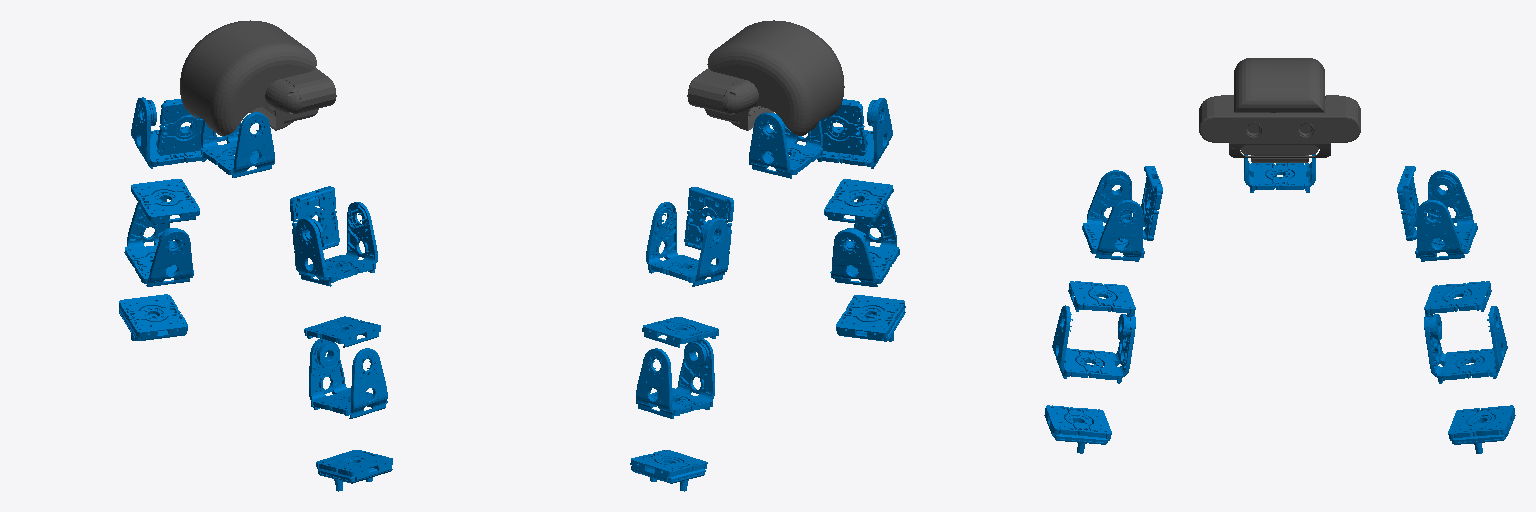
--- Facts derived from the render (not from the file) ---
Views: 3 orthographic renders of the robot side by side, from view 1: azimuth 30°, elevation 25°; view 2: azimuth 150°, elevation 25°; view 3: azimuth 270°, elevation 25°.
Model ego_robot with 40 links and 39 joints (12 revolute, 2 continuous, 25 fixed), rooted at base_link, posed all joints at 0.
Links seen in each view (by area): view 1: head_robot, right_forearm_flange, right_arm_flange, left_forearm_flange, neck_flange, left_elbow_flange, left_wrist_flange, left_shoulder_flange, left_arm_flange, right_shoulder_flange, right_elbow_flange, right_wrist_flange; view 2: head_robot, left_forearm_flange, left_arm_flange, right_forearm_flange, neck_flange, right_wrist_flange, right_elbow_flange, right_shoulder_flange, right_arm_flange, left_shoulder_flange, left_elbow_flange, left_wrist_flange; view 3: head_robot, left_arm_flange, right_arm_flange, right_forearm_flange, left_forearm_flange, neck_flange, left_elbow_flange, right_elbow_flange, left_wrist_flange, right_wrist_flange, left_shoulder_flange, right_shoulder_flange (+1 smaller).
Link boxes in pixels (left/top/right/bottom): head_robot: left=180, top=20, right=336, bottom=135; right_forearm_flange: left=309, top=339, right=387, bottom=418; right_arm_flange: left=295, top=202, right=377, bottom=286; left_forearm_flange: left=124, top=198, right=193, bottom=286; neck_flange: left=201, top=112, right=274, bottom=177; left_elbow_flange: left=131, top=179, right=199, bottom=224; left_wrist_flange: left=119, top=294, right=187, bottom=340; left_shoulder_flange: left=157, top=99, right=202, bottom=155; left_arm_flange: left=131, top=97, right=206, bottom=168; right_shoulder_flange: left=290, top=186, right=339, bottom=252; right_elbow_flange: left=304, top=316, right=380, bottom=347; right_wrist_flange: left=316, top=450, right=392, bottom=480; head_robot: left=687, top=20, right=844, bottom=135; left_forearm_flange: left=636, top=339, right=714, bottom=418; left_arm_flange: left=646, top=202, right=728, bottom=286; right_forearm_flange: left=830, top=199, right=899, bottom=286; neck_flange: left=749, top=112, right=822, bottom=178; right_wrist_flange: left=836, top=295, right=905, bottom=340; right_elbow_flange: left=824, top=179, right=893, bottom=224; right_shoulder_flange: left=820, top=99, right=866, bottom=155; right_arm_flange: left=817, top=98, right=892, bottom=168; left_shoulder_flange: left=684, top=187, right=733, bottom=253; left_elbow_flange: left=642, top=317, right=718, bottom=347; left_wrist_flange: left=630, top=450, right=707, bottom=480; head_robot: left=1199, top=58, right=1360, bottom=162; left_arm_flange: left=1415, top=170, right=1477, bottom=261; right_arm_flange: left=1082, top=170, right=1144, bottom=261; right_forearm_flange: left=1052, top=305, right=1135, bottom=383; left_forearm_flange: left=1424, top=306, right=1507, bottom=383; neck_flange: left=1244, top=154, right=1315, bottom=192; left_elbow_flange: left=1424, top=281, right=1491, bottom=316; right_elbow_flange: left=1068, top=281, right=1135, bottom=316; left_wrist_flange: left=1448, top=405, right=1515, bottom=440; right_wrist_flange: left=1044, top=405, right=1111, bottom=440; left_shoulder_flange: left=1397, top=166, right=1418, bottom=240; right_shoulder_flange: left=1141, top=166, right=1162, bottom=240.
Bounding box of the posed robot: 0.1395 × 0.5663 × 0.5028 m (x, y, z).
Meshes: 13 distinct files referenced, 16 mesh visuals loaded (6 Collada DAE); not drawn: 1 (reference not matched to a file when rendering), 15 (file found but could not be loaded).

URDF robot description (ego_robot):
<?xml version="1.0" ?>
<!-- =================================================================================== -->
<!-- |    This document was autogenerated by xacro from ego_robot_gazebo_v2.urdf.xacro | -->
<!-- |    EDITING THIS FILE BY HAND IS NOT RECOMMENDED                                 | -->
<!-- =================================================================================== -->
<robot name="ego_robot">
  <material name="qbmove/flange">
    <color rgba="0.0 0.5 0.8 1.0"/>
  </material>
  <material name="qbmove/cube">
    <color rgba="0.35 0.35 0.35 1.0"/>
  </material>
  <material name="qbmove/shaft">
    <color rgba="0.8 0.8 0.8 1.0"/>
  </material>
  <material name="qbmove/default">
    <color rgba="0.35 0.35 0.35 1.0"/>
  </material>
  <material name="SoftBlue">
    <color rgba="0.0 0.0 0.8 0.9"/>
  </material>
  <material name="SoftLightBlue">
    <color rgba="0.0 0.4 1.0 1.0"/>
  </material>
  <material name="wheel">
    <color rgba="0.50 0.50 0.50 1.0"/>
  </material>
  <!-- IMU : -->
  <joint name="base_link_to_imu" type="fixed">
    <origin rpy="0 0 0" xyz="0 102.5e-3 24.25e-3"/>
    <parent link="base_link"/>
    <child link="imu"/>
  </joint>
  <link name="imu">
    <visual>
      <material name="qbmove/cube"/>
      <geometry>
        <mesh filename="package://alterego_robot/alterego_description/meshes/common/visual/mc_seg_imu_supp_1_100.dae" scale="0.001 0.001 0.001"/>
      </geometry>
      <origin rpy="0 0 0" xyz="0 0 0"/>
    </visual>
    <inertial>
      <origin rpy="0 0 0" xyz="7.5000002e-3 -2.4329396e-4  5.0246414e-4"/>
      <mass value="2.3770213e-3"/>
      <inertia ixx="0" ixy="0" ixz="0" iyy="0" iyz="0" izz="0"/>
    </inertial>
    <collision>
      <origin rpy="0 0 0" xyz="0 0 0"/>
      <geometry>
        <mesh filename="package://alterego_robot/alterego_description/meshes/common/collision/mc_seg_imu_supp_1_100.stl" scale="0.001 0.001 0.001"/>
      </geometry>
    </collision>
  </link>
  <!-- LASER : -->
  <joint name="base_link_to_laser" type="fixed">
    <origin rpy="0 0 -1.5707963" xyz="0 0 116e-3 "/>
    <parent link="base_link"/>
    <child link="laser"/>
  </joint>
  <link name="laser">
    <visual>
      <material name="qbmove/cube"/>
      <geometry>
        <mesh filename="package://alterego_robot/alterego_description/meshes/common/visual/rplidar_a2_slamtec.dae" scale="0.001 0.001 0.001"/>
      </geometry>
      <origin rpy="0 0 0" xyz="0 0 0"/>
    </visual>
    <inertial>
      <origin rpy="0 0 0" xyz=" -4.3709710e-4 0   1.8991442e-2"/>
      <mass value="2.0002622e-1"/>
      <inertia ixx=" 9.1569570e-5" ixy="0" ixz="0" iyy="9.0192290e-5" iyz="0" izz="1.2956170e-4"/>
    </inertial>
    <collision>
      <origin rpy="0 0 0" xyz="0 0 0"/>
      <geometry>
        <mesh filename="package://alterego_robot/alterego_description/meshes/common/collision/rplidar_a2_slamtec.stl" scale="0.001 0.001 0.001"/>
      </geometry>
    </collision>
  </link>
  <gazebo reference="laser">
    <material>Gazebo/Black</material>
  </gazebo>
  <!-- ZED : -->
  <joint name="head_robot_to_camera" type="fixed">
    <origin rpy="-1.5707963 0 2.3561944" xyz="-87.9065e-3 21.6811e-3 -6.5e-3"/>
    <parent link="head_robot"/>
    <child link="camera"/>
  </joint>
  <link name="camera">
    <visual>
      <material name="qbmove/cube"/>
      <geometry>
        <mesh filename="package://alterego_robot/alterego_description/meshes/common/visual/zedm.dae" scale="0.001 0.001 0.001"/>
      </geometry>
      <origin rpy="0 0 0" xyz="0 0 0"/>
    </visual>
    <inertial>
      <origin rpy="0 0 0" xyz=" -1.7967264e-2  8.9226986e-4  7.6630930e-6"/>
      <mass value="5.8888131e-2"/>
      <inertia ixx=" 0" ixy="0" ixz="0" iyy="0" iyz="0" izz="0"/>
    </inertial>
    <collision>
      <origin rpy="0 0 0" xyz="0 0 0"/>
      <geometry>
        <mesh filename="package://alterego_robot/alterego_description/meshes/common/collision/zedm.stl" scale="0.001 0.001 0.001"/>
      </geometry>
    </collision>
  </link>
  <!-- FRAME FOR PLUGIN  -->
  <!-- LEFT  -->
  <joint name="camera_to_left" type="fixed">
    <origin rpy="0 0 0" xyz="0 0.025 0"/>
    <parent link="camera"/>
    <child link="camera_left"/>
  </joint>
  <link name="camera_left"/>
  <!-- FRAME FOR PLUGIN  -->
  <!-- RIGHT  -->
  <joint name="camera_to_right" type="fixed">
    <origin rpy="0 0 0" xyz="0 -0.036 0"/>
    <parent link="camera"/>
    <child link="camera_right"/>
  </joint>
  <link name="camera_right"/>
  <!-- IMU : -->
  <joint name="head_robot_to_realsense" type="fixed">
    <origin rpy="-1.5707963 0 2.3561944" xyz="-65.6725e-3 38.7425e-3 0"/>
    <parent link="head_robot"/>
    <child link="realsense"/>
  </joint>
  <link name="realsense">
    <visual>
      <material name="qbmove/cube"/>
      <geometry>
        <mesh filename="package://alterego_robot/alterego_description/meshes/common/visual/intel_realsense_d415_old_asm.dae" scale="0.001 0.001 0.001"/>
      </geometry>
      <origin rpy="1.57 0 1.57" xyz="0 0 0"/>
    </visual>
    <inertial>
      <origin rpy="0 0 0" xyz=" 2.8406417e-3  -1.0608066e-4  -1.1037173e-2"/>
      <mass value="5.6999990e-2"/>
      <inertia ixx=" 0" ixy="0" ixz="0" iyy="0" iyz="0" izz="0"/>
    </inertial>
    <collision>
      <origin rpy="1.57 0 1.57" xyz="0 0 0"/>
      <geometry>
        <mesh filename="package://alterego_robot/alterego_description/meshes/common/collision/intel_realsense_d415_old_asm.stl" scale="0.001 0.001 0.001"/>
      </geometry>
    </collision>
  </link>
  <gazebo reference="realsense">
    <material>Gazebo/Black</material>
  </gazebo>
  <link name="fake_realsense">
    <inertial>
      <origin rpy="0 0 0" xyz=" 2.8406417e-5  -1.0608066e-7  -1.1037173e-5"/>
      <mass value="5.6999990e-4"/>
      <inertia ixx=" 0" ixy="0" ixz="0" iyy="0" iyz="0" izz="0"/>
    </inertial>
  </link>
  <joint name="depth_to_fakelink" type="fixed">
    <!-- <origin xyz="83e-3 -0.5e-3  1006.5e-3" rpy="-1.57 0 -1.57" /> -->
    <origin rpy="-1.57 0 -1.57" xyz="0 0 0"/>
    <parent link="realsense"/>
    <child link="fake_realsense"/>
  </joint>
  <!-- <xacro:include filename="$(find realsense2_description)/urdf/_d435.urdf.xacro" />
  <xacro:sensor_d435 name="d435" topics_ns="realsense" parent="realsense_link"
    publish_pointcloud="true">
    <origin xyz="0 0 0" rpy="1.57 -1.57 0" />
  </xacro:sensor_d435> -->
  <!-- JOINT -->
  <joint name="base_link_to_wheel_L" type="continuous">
    <axis xyz="0 0 1"/>
    <limit effort="22" velocity="1e16"/>
    <dynamics damping="5.2" friction="2.17"/>
    <origin rpy="0 -1.5707963 -1.5707963" xyz="0 277e-3 0"/>
    <parent link="base_link"/>
    <child link="wheel_L"/>
  </joint>
  <!-- LINK -->
  <link name="wheel_L">
    <visual>
      <material name="wheel"/>
      <geometry>
        <mesh filename="package://alterego_robot/alterego_description/meshes/common/visual/mteg100_varvel_gearbox.dae" scale="0.001 0.001 0.001"/>
      </geometry>
      <origin rpy="0 0 0" xyz="0 0 0"/>
    </visual>
    <inertial>
      <origin rpy="0 0 0" xyz="-9.3352926e-7 -1.6320810e-6 7.2612692e-4"/>
      <mass value="1.2175322"/>
      <inertia ixx="4.9769349e-3" ixy="0" ixz="0" iyy="4.9768680e-3" iyz="0" izz="8.8587376e-3"/>
    </inertial>
    <collision>
      <geometry>
        <cylinder length="0.07" radius="0.13"/>
      </geometry>
      <origin rpy="0 0 0" xyz="0 0 0"/>
    </collision>
  </link>
  <!-- GAZEBO REFERENCE -->
  <gazebo reference="wheel_L">
    <material>Gazebo/Grey</material>
    <selfCollide>false</selfCollide>
    <mu1 value="1.0"/>
    <mu2 value="1.0"/>
    <kp value="1e6"/>
    <kd value="1.0"/>
  </gazebo>
  <!-- JOINT -->
  <joint name="base_link_to_wheel_R" type="continuous">
    <axis xyz="0 0 1"/>
    <limit effort="22" velocity="1e16"/>
    <dynamics damping="5.2" friction="2.17"/>
    <origin rpy="0 -1.5707963 1.5707963" xyz="0 -277e-3 0"/>
    <parent link="base_link"/>
    <child link="wheel_R"/>
  </joint>
  <!-- LINK -->
  <link name="wheel_R">
    <visual>
      <material name="wheel"/>
      <geometry>
        <mesh filename="package://alterego_robot/alterego_description/meshes/common/visual/mteg100_varvel_gearbox.dae" scale="0.001 0.001 0.001"/>
      </geometry>
      <origin rpy="0 0 0" xyz="0 0 0"/>
    </visual>
    <inertial>
      <origin rpy="0 0 0" xyz="-9.3352926e-7 -1.6320810e-6 7.2612692e-4"/>
      <mass value="1.2175322"/>
      <inertia ixx="4.9769349e-3" ixy="0" ixz="0" iyy="4.9768680e-3" iyz="0" izz="8.8587376e-3"/>
    </inertial>
    <collision>
      <geometry>
        <cylinder length="0.07" radius="0.13"/>
      </geometry>
      <origin rpy="0 0 0" xyz="0 0 0"/>
    </collision>
  </link>
  <!-- GAZEBO REFERENCE -->
  <gazebo reference="wheel_R">
    <material>Gazebo/Grey</material>
    <selfCollide>false</selfCollide>
    <mu1 value="1.0"/>
    <mu2 value="1.0"/>
    <kp value="1e6"/>
    <kd value="1.0"/>
  </gazebo>
  <!-- Plugins  -->
  <gazebo>
    <plugin filename="libgazebo_ros_control.so" name="gazebo_ros_control">
      <robotNamespace>AlterEgoBase5/wheels</robotNamespace>
      <robotSimType>gazebo_ros_control/DefaultRobotHWSim</robotSimType>
      <legacyModeNS>true</legacyModeNS>
    </plugin>
  </gazebo>
  <!--Trasmission-->
  <transmission name="tran1">
    <type>transmission_interface/SimpleTransmission</type>
    <joint name="base_link_to_wheel_L">
      <hardwareInterface>hardware_interface/EffortJointInterface</hardwareInterface>
    </joint>
    <actuator name="L_wheel_motor">
      <hardwareInterface>EffortJointInterface</hardwareInterface>
      <mechanicalReduction>1</mechanicalReduction>
    </actuator>
  </transmission>
  <transmission name="tran2">
    <type>transmission_interface/SimpleTransmission</type>
    <joint name="base_link_to_wheel_R">
      <hardwareInterface>hardware_interface/EffortJointInterface</hardwareInterface>
    </joint>
    <actuator name="R_wheel_motor">
      <hardwareInterface>EffortJointInterface</hardwareInterface>
      <mechanicalReduction>1</mechanicalReduction>
    </actuator>
  </transmission>
  <gazebo reference="imu">
    <gravity>true</gravity>
    <sensor name="imu_sensor" type="imu">
      <always_on>true</always_on>
      <update_rate>500</update_rate>
      <visualize>true</visualize>
      <topic>__default_topic__</topic>
      <plugin filename="libgazebo_ros_imu_sensor.so" name="imu_plugin">
        <topicName>AlterEgoBase5/imu</topicName>
        <bodyName>imu_1</bodyName>
        <updateRateHZ>10.0</updateRateHZ>
        <gaussianNoise>0.0</gaussianNoise>
        <xyzOffset>0 0 0</xyzOffset>
        <rpyOffset>0 0 0</rpyOffset>
        <frameName>imu_1</frameName>
      </plugin>
      <pose>0 0 0 0 0 0</pose>
    </sensor>
  </gazebo>
  <!-- <link name="world">
	</link>

	<joint name="world_to_base" type="fixed">
		<origin xyz="0 0 0" rpy="0 0 0" />
		<parent link="world" />
		<child link="base_link" />
	</joint> -->
  <link name="base_link">
    <visual>
      <material name="SoftLightBlue"/>
      <geometry>
        <mesh filename="package://alterego_robot/alterego_description/meshes/alterego_v2/visual/body.dae" scale="0.001 0.001 0.001"/>
      </geometry>
      <origin rpy="0 0 0" xyz="0 0 0"/>
    </visual>
    <inertial>
      <origin rpy="0 0 0" xyz="-1.2011052e-5 1.1480563e-3 2.4548879e-1"/>
      <mass value="2.0831010e+1"/>
      <inertia ixx=" 1.6382953" ixy="-4.9516366e-4" ixz="-8.8000450e-3" iyy="1.4399643" iyz="4.3295684e-3" izz="2.5676989e-1"/>
    </inertial>
    <collision>
      <geometry>
        <mesh filename="package://alterego_robot/alterego_description/meshes/alterego_v2/collision/body.stl" scale="0.001 0.001 0.001"/>
      </geometry>
      <origin rpy="0 0 0" xyz="0 0 0"/>
    </collision>
  </link>
  <link name="torso">
	</link>
  <joint name="base_to_torso" type="fixed">
    <origin rpy="0 0 0" xyz="0 0 0.633"/>
    <parent link="base_link"/>
    <child link="torso"/>
  </joint>
  <gazebo reference="base_link">
    <material>Gazebo/SkyBlue</material>
    <selfCollide>false</selfCollide>
  </gazebo>
  <!-- JOINT -->
  <joint name="base_link_to_neck" type="revolute">
    <axis xyz="0 0 1"/>
    <limit effort="1000.0" lower="-3.14" upper="3.14" velocity="0.5"/>
    <origin rpy="0 0 0" xyz="0 0 700.5e-3"/>
    <dynamics damping="0.065" friction="0.025"/>
    <parent link="base_link"/>
    <child link="neck"/>
  </joint>
  <!-- LINK -->
  <link name="neck">
		</link>
  <!-- GAZEBO REFERENCE -->
  <gazebo reference="neck">
    <material>Gazebo/SkyBlue</material>
    <selfCollide>false</selfCollide>
  </gazebo>
  <gazebo>
    <plugin filename="libqbmove_plugin.so" name="compliant_act_base_link_to_neck">
      <joint>base_link_to_neck</joint>
      <operation_mode>5</operation_mode>
      <pub_eltau>false</pub_eltau>
      <pub_state>true</pub_state>
      <sub_ext_tau>false</sub_ext_tau>
      <namespace>AlterEgoBase5/left</namespace>
      <t_sample>0.01</t_sample>
      <spring_a1>11 </spring_a1>
      <spring_k1>0.02</spring_k1>
      <spring_a2>11</spring_a2>
      <spring_k2>0.02</spring_k2>
      <mot_1_tauMax>12.0</mot_1_tauMax>
      <mot_2_tauMax>12.0</mot_2_tauMax>
      <ctrl_1_P>125.0</ctrl_1_P>
      <ctrl_1_I>0.0</ctrl_1_I>
      <ctrl_1_D>4.5</ctrl_1_D>
    </plugin>
  </gazebo>
  <!-- JOINT -->
  <joint name="neck_to_neck_flange" type="fixed">
    <axis xyz="0 0 1"/>
    <limit effort="1000.0" lower="-3.14" upper="3.14" velocity="0.5"/>
    <origin rpy="0 -1.5707963 1.5707963" xyz="0 0 50e-3"/>
    <dynamics damping="0.065" friction="0.025"/>
    <parent link="neck"/>
    <child link="neck_flange"/>
  </joint>
  <!-- LINK -->
  <link name="neck_flange">
    <visual>
      <material name="qbmove/flange"/>
      <geometry>
        <mesh filename="package://alterego_robot/alterego_description/meshes/common/visual/la_flg_asm_c_wb_blu.dae" scale="0.001 0.001 0.001"/>
      </geometry>
      <origin rpy="0 0 0" xyz="0 0 0"/>
    </visual>
    <inertial>
      <origin rpy="0 0 0" xyz="-7.3157519e-3 2.3015782e-2 0"/>
      <mass value="8.6640591e-2"/>
      <inertia ixx="7.8695858e-5" ixy="1.8826444e-5" ixz="0" iyy="1.0265668e-4" iyz="0" izz="1.3810438e-4"/>
    </inertial>
    <collision>
      <origin rpy="0 0 0" xyz="0 0 0"/>
      <geometry>
        <mesh filename="package://alterego_robot/alterego_description/meshes/common/collision/la_flg_asm_c_wb_blu.stl" scale="0.001 0.001 0.001"/>
      </geometry>
    </collision>
  </link>
  <!-- GAZEBO REFERENCE -->
  <gazebo reference="neck_flange">
    <material>Gazebo/SkyBlue</material>
    <selfCollide>false</selfCollide>
  </gazebo>
  <!-- JOINT -->
  <joint name="neck_flange_to_neck_cube" type="revolute">
    <axis xyz="0 0 -1"/>
    <limit effort="1000.0" lower="-1.57" upper="1.57" velocity="0.5"/>
    <dynamics damping="0.065" friction="0.025"/>
    <origin rpy="0 0 2.356195 " xyz="0 0 0.5e-3"/>
    <parent link="neck_flange"/>
    <child link="neck_cube"/>
  </joint>
  <!-- LINK -->
  <link name="neck_cube">
    <visual>
      <material name="qbmove/cube"/>
      <geometry>
        <mesh filename="package://alterego_robot/alterego_description/meshes/common/visual/qb_move_advanced_for_mate.dae" scale="0.001 0.001 0.001"/>
      </geometry>
      <origin rpy="0 0 0" xyz="0 0 0"/>
    </visual>
    <inertial>
      <origin rpy="0 0 0" xyz="-9.5664949e-5 -1.6749134e-5  1.3880927e-3"/>
      <mass value="4.5418805e-1"/>
      <inertia ixx="1.7978900e-4" ixy="0" ixz="0" iyy="1.7806823e-4" iyz="0" izz="1.6882624e-4"/>
    </inertial>
    <collision>
      <origin rpy="0.0 0.0 0.0" xyz="0.0 0.0 0.0"/>
      <geometry>
        <box size="0.07 0.07 0.07"/>
      </geometry>
    </collision>
  </link>
  <!-- GAZEBO REFERENCE -->
  <gazebo reference="neck_cube">
    <material>Gazebo/Grey</material>
    <selfCollide>false</selfCollide>
  </gazebo>
  <gazebo>
    <plugin filename="libqbmove_plugin.so" name="compliant_act_neck_flange_to_neck_cube">
      <joint>neck_flange_to_neck_cube</joint>
      <operation_mode>5</operation_mode>
      <pub_eltau>false</pub_eltau>
      <pub_state>true</pub_state>
      <sub_ext_tau>false</sub_ext_tau>
      <namespace>AlterEgoBase5/right</namespace>
      <t_sample>0.01</t_sample>
      <spring_a1>11 </spring_a1>
      <spring_k1>0.02</spring_k1>
      <spring_a2>11</spring_a2>
      <spring_k2>0.02</spring_k2>
      <mot_1_tauMax>12.0</mot_1_tauMax>
      <mot_2_tauMax>12.0</mot_2_tauMax>
      <ctrl_1_P>125.0</ctrl_1_P>
      <ctrl_1_I>0.0</ctrl_1_I>
      <ctrl_1_D>4.5</ctrl_1_D>
    </plugin>
  </gazebo>
  <joint name="neck_cube_to_head_robot" type="fixed">
    <origin rpy="0.0 0.0 0.0" xyz="0 0 0.0"/>
    <parent link="neck_cube"/>
    <child link="head_robot"/>
  </joint>
  <link name="head_robot">
    <visual>
      <material name="qbmove/cube"/>
      <geometry>
        <mesh filename="package://alterego_robot/alterego_description/meshes/alterego_v2/visual/mteg102_head.dae" scale="0.001 0.001 0.001"/>
      </geometry>
      <origin rpy="0 0 0" xyz="0 0 0"/>
    </visual>
    <inertial>
      <origin rpy="0 0 0" xyz="-5.7289026e-2 -2.2846699e-2  -2.3567538e-3"/>
      <mass value="3.1797228e-1"/>
      <inertia ixx="8.0284197e-4" ixy="0" ixz="0" iyy="6.0074469e-4" iyz="1.7864454e-5" izz="5.6711386e-4"/>
    </inertial>
    <collision>
      <origin rpy="0.0 0.0 0.0" xyz="0.0 0.0 0.0"/>
      <geometry>
        <mesh filename="package://alterego_robot/alterego_description/meshes/alterego_v2/collision/mteg102_head.stl" scale="0.001 0.001 0.001"/>
      </geometry>
    </collision>
  </link>
  <gazebo reference="head_robot">
    <material>Gazebo/Grey</material>
    <selfCollide>false</selfCollide>
  </gazebo>
  <link name="head_curr">
    <inertial>
      <origin rpy="0 0 0" xyz=" 2.8406417e-5  -1.0608066e-7  -1.1037173e-5"/>
      <mass value="5.6999990e-4"/>
      <inertia ixx=" 0" ixy="0" ixz="0" iyy="0" iyz="0" izz="0"/>
    </inertial>
  </link>
  <joint name="head_robot_to_head_curr" type="fixed">
    <!-- <origin xyz="83e-3 -0.5e-3  1006.5e-3" rpy="-1.57 0 -1.57" /> -->
    <origin rpy="-1.5707963 0 2.3561944" xyz="0 0 0"/>
    <parent link="head_robot"/>
    <child link="head_curr"/>
  </joint>
  <!-- JOINT -->
  <joint name="base_link_to_left_shoulder_flange" type="revolute">
    <axis xyz="0 0 1"/>
    <limit effort="1000.0" lower="-3.14" upper="3.14" velocity="0.5"/>
    <origin rpy="-0.1745345 -1.3962633 -1.5707948" xyz="16.9617e-3 154.989e-3 669.737e-3"/>
    <dynamics damping="0.065" friction="0.025"/>
    <parent link="base_link"/>
    <child link="left_shoulder_flange"/>
  </joint>
  <!-- LINK -->
  <link name="left_shoulder_flange">
    <visual>
      <material name="qbmove/flange"/>
      <geometry>
        <mesh filename="package://alterego_robot/alterego_description/meshes/common/visual/la_flg_asm_flat_blu.dae" scale="0.001 0.001 0.001"/>
      </geometry>
      <origin rpy="0 0 0" xyz="0 0 0"/>
    </visual>
    <inertial>
      <origin rpy="0 0 0" xyz="-8.0511890e-5 0 6.1371397e-4"/>
      <mass value="4.1898263e-02"/>
      <inertia ixx="1.5773084e-5" ixy="0" ixz="0" iyy="2.1026644e-5" iyz="0" izz="3.6312308e-5"/>
    </inertial>
    <collision>
      <origin rpy="0 0 0" xyz="0 0 0"/>
      <geometry>
        <mesh filename="package://alterego_robot/alterego_description/meshes/common/collision/la_flg_asm_flat_blu.stl" scale="0.001 0.001 0.001"/>
      </geometry>
    </collision>
  </link>
  <!-- GAZEBO REFERENCE -->
  <gazebo reference="left_shoulder_flange">
    <material>Gazebo/SkyBlue</material>
    <selfCollide>false</selfCollide>
  </gazebo>
  <gazebo>
    <plugin filename="libqbmove_plugin.so" name="compliant_act_base_link_to_left_shoulder_flange">
      <joint>base_link_to_left_shoulder_flange</joint>
      <operation_mode>5</operation_mode>
      <pub_eltau>false</pub_eltau>
      <pub_state>true</pub_state>
      <sub_ext_tau>false</sub_ext_tau>
      <namespace>AlterEgoBase5/left</namespace>
      <t_sample>0.01</t_sample>
      <spring_a1>11 </spring_a1>
      <spring_k1>0.02</spring_k1>
      <spring_a2>11</spring_a2>
      <spring_k2>0.02</spring_k2>
      <mot_1_tauMax>12.0</mot_1_tauMax>
      <mot_2_tauMax>12.0</mot_2_tauMax>
      <ctrl_1_P>125.0</ctrl_1_P>
      <ctrl_1_I>0.0</ctrl_1_I>
      <ctrl_1_D>4.5</ctrl_1_D>
    </plugin>
  </gazebo>
  <!-- JOINT -->
  <joint name="left_shoulder_flange_to_left_shoulder_cube" type="fixed">
    <origin rpy="1.5707963 0 3.1415927" xyz="0 0 37e-3"/>
    <parent link="left_shoulder_flange"/>
    <child link="left_shoulder_cube"/>
  </joint>
  <!-- LINK -->
  <link name="left_shoulder_cube">
    <visual>
      <material name="qbmove/cube"/>
      <geometry>
        <mesh filename="package://alterego_robot/alterego_description/meshes/common/visual/qb_move_advanced_for_mate.dae" scale="0.001 0.001 0.001"/>
      </geometry>
      <origin rpy="0 0 0" xyz="0 0 0"/>
    </visual>
    <inertial>
      <origin rpy="0 0 0" xyz="-9.5664949e-5 -1.6749134e-5  1.3880927e-3"/>
      <mass value="4.5418805e-1"/>
      <inertia ixx="1.7978900e-4" ixy="0" ixz="0" iyy="1.7806823e-4" iyz="0" izz="1.6882624e-4"/>
    </inertial>
    <collision>
      <origin rpy="0.0 0.0 0.0" xyz="0.0 0.0 0.0"/>
      <geometry>
        <box size="0.07 0.07 0.07"/>
      </geometry>
    </collision>
  </link>
  <!-- GAZEBO REFERENCE -->
  <gazebo reference="left_shoulder_cube">
    <material>Gazebo/Grey</material>
    <selfCollide>false</selfCollide>
  </gazebo>
  <!-- JOINT -->
  <joint name="left_shoulder_cube_to_left_arm_flange" type="revolute">
    <axis xyz="0 0 1"/>
    <limit effort="1000.0" lower="-3.14" upper="3.14" velocity="0.5"/>
    <origin rpy="0 0 3.1415927" xyz="0 0 -0.5e-3"/>
    <dynamics damping="0.065" friction="0.025"/>
    <parent link="left_shoulder_cube"/>
    <child link="left_arm_flange"/>
  </joint>
  <!-- LINK -->
  <link name="left_arm_flange">
    <visual>
      <material name="qbmove/flange"/>
      <geometry>
        <mesh filename="package://alterego_robot/alterego_description/meshes/common/visual/la_flg_asm_c_wb_blu.dae" scale="0.001 0.001 0.001"/>
      </geometry>
      <origin rpy="0 0 0" xyz="0 0 0"/>
    </visual>
    <inertial>
      <origin rpy="0 0 0" xyz="-7.3157519e-3 2.3015782e-2 0"/>
      <mass value="8.6640591e-2"/>
      <inertia ixx="7.8695858e-5" ixy="1.8826444e-5" ixz="0" iyy="1.0265668e-4" iyz="0" izz="1.3810438e-4"/>
    </inertial>
    <collision>
      <origin rpy="0 0 0" xyz="0 0 0"/>
      <geometry>
        <mesh filename="package://alterego_robot/alterego_description/meshes/common/collision/la_flg_asm_c_wb_blu.stl" scale="0.001 0.001 0.001"/>
      </geometry>
    </collision>
  </link>
  <!-- GAZEBO REFERENCE -->
  <gazebo reference="left_arm_flange">
    <material>Gazebo/SkyBlue</material>
    <selfCollide>false</selfCollide>
  </gazebo>
  <gazebo>
    <plugin filename="libqbmove_plugin.so" name="compliant_act_left_shoulder_cube_to_left_arm_flange">
      <joint>left_shoulder_cube_to_left_arm_flange</joint>
      <operation_mode>5</operation_mode>
      <pub_eltau>false</pub_eltau>
      <pub_state>true</pub_state>
      <sub_ext_tau>false</sub_ext_tau>
      <namespace>AlterEgoBase5/left</namespace>
      <t_sample>0.01</t_sample>
      <spring_a1>11 </spring_a1>
      <spring_k1>0.02</spring_k1>
      <spring_a2>11</spring_a2>
      <spring_k2>0.02</spring_k2>
      <mot_1_tauMax>12.0</mot_1_tauMax>
      <mot_2_tauMax>12.0</mot_2_tauMax>
      <ctrl_1_P>125.0</ctrl_1_P>
      <ctrl_1_I>0.0</ctrl_1_I>
      <ctrl_1_D>4.5</ctrl_1_D>
    </plugin>
  </gazebo>
  <!-- JOINT -->
  <joint name="left_arm_flange_to_left_arm_cube" type="fixed">
    <origin rpy="0 1.5707963 3.1415927" xyz="-90e-3 0 0"/>
    <parent link="left_arm_flange"/>
    <child link="left_arm_cube"/>
  </joint>
  <!-- LINK -->
  <link name="left_arm_cube">
    <visual>
      <material name="qbmove/cube"/>
      <geometry>
        <mesh filename="package://alterego_robot/alterego_description/meshes/common/visual/qb_move_advanced_for_mate.dae" scale="0.001 0.001 0.001"/>
      </geometry>
      <origin rpy="0 0 0" xyz="0 0 0"/>
    </visual>
    <inertial>
      <origin rpy="0 0 0" xyz="-9.5664949e-5 -1.6749134e-5  1.3880927e-3"/>
      <mass value="4.5418805e-1"/>
      <inertia ixx="1.7978900e-4" ixy="0" ixz="0" iyy="1.7806823e-4" iyz="0" izz="1.6882624e-4"/>
    </inertial>
    <collision>
      <origin rpy="0.0 0.0 0.0" xyz="0.0 0.0 0.0"/>
      <geometry>
        <box size="0.07 0.07 0.07"/>
      </geometry>
    </collision>
  </link>
  <!-- GAZEBO REFERENCE -->
  <gazebo reference="left_arm_cube">
    <material>Gazebo/Grey</material>
    <selfCollide>false</selfCollide>
  </gazebo>
  <!-- JOINT -->
  <joint name="left_arm_cube_to_left_elbow_flange" type="revolute">
    <axis xyz="0 0 1"/>
    <limit effort="1000.0" lower="-3.14" upper="3.14" velocity="0.5"/>
    <origin rpy="0 0 1.5707963" xyz="0 0 40.5e-3"/>
    <dynamics damping="0.065" friction="0.025"/>
    <parent link="left_arm_cube"/>
    <child link="left_elbow_flange"/>
  </joint>
  <!-- LINK -->
  <link name="left_elbow_flange">
    <visual>
      <material name="qbmove/flange"/>
      <geometry>
        <mesh filename="package://alterego_robot/alterego_description/meshes/common/visual/la_flg_asm_flat_blu.dae" scale="0.001 0.001 0.001"/>
      </geometry>
      <origin rpy="0 0 0" xyz="0 0 0"/>
    </visual>
    <inertial>
      <origin rpy="0 0 0" xyz="-8.0511890e-5 0 6.1371397e-4"/>
      <mass value="4.1898263e-02"/>
      <inertia ixx="1.5773084e-5" ixy="0" ixz="0" iyy="2.1026644e-5" iyz="0" izz="3.6312308e-5"/>
    </inertial>
    <collision>
      <origin rpy="0 0 0" xyz="0 0 0"/>
      <geometry>
        <mesh filename="package://alterego_robot/alterego_description/meshes/common/collision/la_flg_asm_flat_blu.stl" scale="0.001 0.001 0.001"/>
      </geometry>
    </collision>
  </link>
  <!-- GAZEBO REFERENCE -->
  <gazebo reference="left_elbow_flange">
    <material>Gazebo/SkyBlue</material>
    <selfCollide>false</selfCollide>
  </gazebo>
  <gazebo>
    <plugin filename="libqbmove_plugin.so" name="compliant_act_left_arm_cube_to_left_elbow_flange">
      <joint>left_arm_cube_to_left_elbow_flange</joint>
      <operation_mode>5</operation_mode>
      <pub_eltau>false</pub_eltau>
      <pub_state>true</pub_state>
      <sub_ext_tau>false</sub_ext_tau>
      <namespace>AlterEgoBase5/left</namespace>
      <t_sample>0.01</t_sample>
      <spring_a1>11 </spring_a1>
      <spring_k1>0.02</spring_k1>
      <spring_a2>11</spring_a2>
      <spring_k2>0.02</spring_k2>
      <mot_1_tauMax>12.0</mot_1_tauMax>
      <mot_2_tauMax>12.0</mot_2_tauMax>
      <ctrl_1_P>125.0</ctrl_1_P>
      <ctrl_1_I>0.0</ctrl_1_I>
      <ctrl_1_D>4.5</ctrl_1_D>
    </plugin>
  </gazebo>
  <!-- JOINT -->
  <joint name="left_elbow_flange_to_left_elbow_cube" type="fixed">
    <origin rpy="-1.5707963 0 -1.5707963" xyz="0 0 37.0e-3"/>
    <parent link="left_elbow_flange"/>
    <child link="left_elbow_cube"/>
  </joint>
  <!-- LINK -->
  <link name="left_elbow_cube">
    <visual>
      <material name="qbmove/cube"/>
      <geometry>
        <mesh filename="package://alterego_robot/alterego_description/meshes/common/visual/qb_move_advanced_for_mate.dae" scale="0.001 0.001 0.001"/>
      </geometry>
      <origin rpy="0 0 0" xyz="0 0 0"/>
    </visual>
    <inertial>
      <origin rpy="0 0 0" xyz="-9.5664949e-5 -1.6749134e-5  1.3880927e-3"/>
      <mass value="4.5418805e-1"/>
      <inertia ixx="1.7978900e-4" ixy="0" ixz="0" iyy="1.7806823e-4" iyz="0" izz="1.6882624e-4"/>
    </inertial>
    <collision>
      <origin rpy="0.0 0.0 0.0" xyz="0.0 0.0 0.0"/>
      <geometry>
        <box size="0.07 0.07 0.07"/>
      </geometry>
    </collision>
  </link>
  <!-- GAZEBO REFERENCE -->
  <gazebo reference="left_elbow_cube">
    <material>Gazebo/Grey</material>
    <selfCollide>false</selfCollide>
  </gazebo>
  <!-- JOINT -->
  <joint name="left_elbow_cube_to_left_forearm_flange" type="revolute">
    <axis xyz="0 0 1"/>
    <limit effort="1000.0" lower="-3.14" upper="3.14" velocity="0.5"/>
    <origin rpy="0 0 1.5707963" xyz="0 0 -0.5e-3"/>
    <dynamics damping="0.065" friction="0.025"/>
    <parent link="left_elbow_cube"/>
    <child link="left_forearm_flange"/>
  </joint>
  <!-- LINK -->
  <link name="left_forearm_flange">
    <visual>
      <material name="qbmove/flange"/>
      <geometry>
        <mesh filename="package://alterego_robot/alterego_description/meshes/common/visual/la_flg_asm_c_wb_blu.dae" scale="0.001 0.001 0.001"/>
      </geometry>
      <origin rpy="0 0 0" xyz="0 0 0"/>
    </visual>
    <inertial>
      <origin rpy="0 0 0" xyz="-7.3157519e-3 2.3015782e-2 0"/>
      <mass value="8.6640591e-2"/>
      <inertia ixx="7.8695858e-5" ixy="1.8826444e-5" ixz="0" iyy="1.0265668e-4" iyz="0" izz="1.3810438e-4"/>
    </inertial>
    <collision>
      <origin rpy="0 0 0" xyz="0 0 0"/>
      <geometry>
        <mesh filename="package://alterego_robot/alterego_description/meshes/common/collision/la_flg_asm_c_wb_blu.stl" scale="0.001 0.001 0.001"/>
      </geometry>
    </collision>
  </link>
  <!-- GAZEBO REFERENCE -->
  <gazebo reference="left_forearm_flange">
    <material>Gazebo/SkyBlue</material>
    <selfCollide>false</selfCollide>
  </gazebo>
  <gazebo>
    <plugin filename="libqbmove_plugin.so" name="compliant_act_left_elbow_cube_to_left_forearm_flange">
      <joint>left_elbow_cube_to_left_forearm_flange</joint>
      <operation_mode>5</operation_mode>
      <pub_eltau>false</pub_eltau>
      <pub_state>true</pub_state>
      <sub_ext_tau>false</sub_ext_tau>
      <namespace>AlterEgoBase5/left</namespace>
      <t_sample>0.01</t_sample>
      <spring_a1>11 </spring_a1>
      <spring_k1>0.02</spring_k1>
      <spring_a2>11</spring_a2>
      <spring_k2>0.02</spring_k2>
      <mot_1_tauMax>12.0</mot_1_tauMax>
      <mot_2_tauMax>12.0</mot_2_tauMax>
      <ctrl_1_P>125.0</ctrl_1_P>
      <ctrl_1_I>0.0</ctrl_1_I>
      <ctrl_1_D>4.5</ctrl_1_D>
    </plugin>
  </gazebo>
  <!-- JOINT -->
  <joint name="left_forearm_flange_to_left_forearm_cube" type="fixed">
    <origin rpy="1.5707963 0 -1.5707963" xyz="-90.0e-3 0 0"/>
    <parent link="left_forearm_flange"/>
    <child link="left_forearm_cube"/>
  </joint>
  <!-- LINK -->
  <link name="left_forearm_cube">
    <visual>
      <material name="qbmove/cube"/>
      <geometry>
        <mesh filename="package://alterego_robot/alterego_description/meshes/common/visual/qb_move_advanced_for_mate.dae" scale="0.001 0.001 0.001"/>
      </geometry>
      <origin rpy="0 0 0" xyz="0 0 0"/>
    </visual>
    <inertial>
      <origin rpy="0 0 0" xyz="-9.5664949e-5 -1.6749134e-5  1.3880927e-3"/>
      <mass value="4.5418805e-1"/>
      <inertia ixx="1.7978900e-4" ixy="0" ixz="0" iyy="1.7806823e-4" iyz="0" izz="1.6882624e-4"/>
    </inertial>
    <collision>
      <origin rpy="0.0 0.0 0.0" xyz="0.0 0.0 0.0"/>
      <geometry>
        <box size="0.07 0.07 0.07"/>
      </geometry>
    </collision>
  </link>
  <!-- GAZEBO REFERENCE -->
  <gazebo reference="left_forearm_cube">
    <material>Gazebo/Grey</material>
    <selfCollide>false</selfCollide>
  </gazebo>
  <!-- JOINT -->
  <joint name="left_forearm_cube_to_left_wrist_flange" type="revolute">
    <axis xyz="0 0 1"/>
    <limit effort="1000.0" lower="-3.14" upper="3.14" velocity="0.5"/>
    <origin rpy="0 0 -1.5707963" xyz="0 0 40.5e-3"/>
    <dynamics damping="0.065" friction="0.025"/>
    <parent link="left_forearm_cube"/>
    <child link="left_wrist_flange"/>
  </joint>
  <!-- LINK -->
  <link name="left_wrist_flange">
    <visual>
      <material name="qbmove/flange"/>
      <geometry>
        <mesh filename="package://alterego_robot/alterego_description/meshes/common/visual/la_flg_asm_flat_blu.dae" scale="0.001 0.001 0.001"/>
      </geometry>
      <origin rpy="0 0 0" xyz="0 0 0"/>
    </visual>
    <inertial>
      <origin rpy="0 0 0" xyz="-8.0511890e-5 0 6.1371397e-4"/>
      <mass value="4.1898263e-02"/>
      <inertia ixx="1.5773084e-5" ixy="0" ixz="0" iyy="2.1026644e-5" iyz="0" izz="3.6312308e-5"/>
    </inertial>
    <collision>
      <origin rpy="0 0 0" xyz="0 0 0"/>
      <geometry>
        <mesh filename="package://alterego_robot/alterego_description/meshes/common/collision/la_flg_asm_flat_blu.stl" scale="0.001 0.001 0.001"/>
      </geometry>
    </collision>
  </link>
  <!-- GAZEBO REFERENCE -->
  <gazebo reference="left_wrist_flange">
    <material>Gazebo/SkyBlue</material>
    <selfCollide>false</selfCollide>
  </gazebo>
  <gazebo>
    <plugin filename="libqbmove_plugin.so" name="compliant_act_left_forearm_cube_to_left_wrist_flange">
      <joint>left_forearm_cube_to_left_wrist_flange</joint>
      <operation_mode>5</operation_mode>
      <pub_eltau>false</pub_eltau>
      <pub_state>true</pub_state>
      <sub_ext_tau>false</sub_ext_tau>
      <namespace>AlterEgoBase5/left</namespace>
      <t_sample>0.01</t_sample>
      <spring_a1>11 </spring_a1>
      <spring_k1>0.02</spring_k1>
      <spring_a2>11</spring_a2>
      <spring_k2>0.02</spring_k2>
      <mot_1_tauMax>12.0</mot_1_tauMax>
      <mot_2_tauMax>12.0</mot_2_tauMax>
      <ctrl_1_P>125.0</ctrl_1_P>
      <ctrl_1_I>0.0</ctrl_1_I>
      <ctrl_1_D>4.5</ctrl_1_D>
    </plugin>
  </gazebo>
  <!-- JOINT -->
  <joint name="left_wrist_flange_to_left_forearm_hand_flange" type="fixed">
    <origin rpy="0 0 0" xyz="0 0 4e-3"/>
    <parent link="left_wrist_flange"/>
    <child link="left_forearm_hand_flange"/>
  </joint>
  <!-- LINK -->
  <link name="left_forearm_hand_flange">
    <visual>
      <material name="qbmove/flange"/>
      <geometry>
        <mesh filename="package://alterego_robot/alterego_description/meshes/alterego_v2/visual/mc_wr_abs_qb_adv_301.dae" scale="0.001 0.001 0.001"/>
      </geometry>
      <origin rpy="0 0 0" xyz="0 0 0"/>
    </visual>
    <inertial>
      <origin rpy="0 0 0" xyz="3.0876986e-4 7.1294237e-5 6.7729239e-3"/>
      <mass value="3.4805486e-2"/>
      <inertia ixx="1.5814995e-5" ixy="0" ixz="0" iyy="1.1610747e-5" iyz="0" izz="2.5935426e-5"/>
    </inertial>
    <collision>
      <origin rpy="0 0 0" xyz="0 0 0"/>
      <geometry>
        <mesh filename="package://alterego_robot/alterego_description/meshes/alterego_v2/collision/mc_wr_abs_qb_adv_301.stl" scale="0.001 0.001 0.001"/>
      </geometry>
    </collision>
  </link>
  <!-- GAZEBO REFERENCE -->
  <gazebo reference="left_forearm_hand_flange">
    <material>Gazebo/Grey</material>
    <selfCollide>false</selfCollide>
  </gazebo>
  <!-- JOINT -->
  <joint name="left_forearm_hand_flange_to_left_hand" type="fixed">
    <axis xyz="0 0 1"/>
    <limit effort="1000.0" lower="-3.14" upper="3.14" velocity="0.5"/>
    <origin rpy="1.571355 0 0" xyz="3.3e-3 1.01693e-3 2.80899e-3"/>
    <parent link="left_forearm_hand_flange"/>
    <child link="left_hand"/>
  </joint>
  <!-- LINK -->
  <link name="left_hand">
    <visual>
      <material name="qbmove/cube"/>
      <geometry>
        <mesh filename="package://alterego_robot/alterego_description/meshes/common/visual/softhand_3_sx_urdf.dae" scale="0.001 0.001 0.001"/>
      </geometry>
      <origin rpy="0 0 0" xyz="0 0 0"/>
    </visual>
    <inertial>
      <origin rpy="0 0 0" xyz="4.1728393e-3  6.3287667e-2 6.0659797e-3"/>
      <mass value="2.9013125e-1"/>
      <inertia ixx="5.6377846e-4" ixy="-2.5891425e-5" ixz="-1.0142109e-5" iyy="1.4989796e-4" iyz="5.9361645e-6" izz="4.4769789e-4"/>
    </inertial>
    <collision>
      <material name="qbmove/cube"/>
      <geometry>
        <mesh filename="package://alterego_robot/alterego_description/meshes/common/collision/softhand_3_sx_urdf.stl" scale="0.001 0.001 0.001"/>
      </geometry>
      <origin rpy="0 0 0" xyz="0 0 0"/>
    </collision>
  </link>
  <joint name="left_hand_to_left_hand__ik" type="fixed">
    <origin rpy="0 0 -1.57" xyz="0 0.088 0.032"/>
    <parent link="left_hand"/>
    <child link="left_hand_ik"/>
  </joint>
  <link name="left_hand_ik">
	</link>
  <!-- GAZEBO REFERENCE -->
  <gazebo reference="left_hand">
    <material>Gazebo/Grey</material>
    <selfCollide>false</selfCollide>
  </gazebo>
  <!-- JOINT -->
  <joint name="base_link_to_right_shoulder_flange" type="revolute">
    <axis xyz="0 0 1"/>
    <limit effort="1000.0" lower="-3.14" upper="3.14" velocity="0.5"/>
    <origin rpy="0.1745345 -1.3962633 1.5707948" xyz="16.9617e-3 -154.989e-3 669.737e-3"/>
    <dynamics damping="0.065" friction="0.025"/>
    <parent link="base_link"/>
    <child link="right_shoulder_flange"/>
  </joint>
  <!-- LINK -->
  <link name="right_shoulder_flange">
    <visual>
      <material name="qbmove/flange"/>
      <geometry>
        <mesh filename="package://alterego_robot/alterego_description/meshes/common/visual/la_flg_asm_flat_blu.dae" scale="0.001 0.001 0.001"/>
      </geometry>
      <origin rpy="0 0 0" xyz="0 0 0"/>
    </visual>
    <inertial>
      <origin rpy="0 0 0" xyz="-8.0511890e-5 0 6.1371397e-4"/>
      <mass value="4.1898263e-02"/>
      <inertia ixx="1.5773084e-5" ixy="0" ixz="0" iyy="2.1026644e-5" iyz="0" izz="3.6312308e-5"/>
    </inertial>
    <collision>
      <origin rpy="0 0 0" xyz="0 0 0"/>
      <geometry>
        <mesh filename="package://alterego_robot/alterego_description/meshes/common/collision/la_flg_asm_flat_blu.stl" scale="0.001 0.001 0.001"/>
      </geometry>
    </collision>
  </link>
  <!-- GAZEBO REFERENCE -->
  <gazebo reference="right_shoulder_flange">
    <material>Gazebo/SkyBlue</material>
    <selfCollide>false</selfCollide>
  </gazebo>
  <gazebo>
    <plugin filename="libqbmove_plugin.so" name="compliant_act_base_link_to_right_shoulder_flange">
      <joint>base_link_to_right_shoulder_flange</joint>
      <operation_mode>5</operation_mode>
      <pub_eltau>false</pub_eltau>
      <pub_state>true</pub_state>
      <sub_ext_tau>false</sub_ext_tau>
      <namespace>AlterEgoBase5/right</namespace>
      <t_sample>0.01</t_sample>
      <spring_a1>11 </spring_a1>
      <spring_k1>0.02</spring_k1>
      <spring_a2>11</spring_a2>
      <spring_k2>0.02</spring_k2>
      <mot_1_tauMax>12.0</mot_1_tauMax>
      <mot_2_tauMax>12.0</mot_2_tauMax>
      <ctrl_1_P>125.0</ctrl_1_P>
      <ctrl_1_I>0.0</ctrl_1_I>
      <ctrl_1_D>4.5</ctrl_1_D>
    </plugin>
  </gazebo>
  <!-- JOINT -->
  <joint name="right_shoulder_flange_to_right_shoulder_cube" type="fixed">
    <origin rpy="-1.5707963 0 3.1415927" xyz="0 0 37.0e-3"/>
    <parent link="right_shoulder_flange"/>
    <child link="right_shoulder_cube"/>
  </joint>
  <!-- LINK -->
  <link name="right_shoulder_cube">
    <visual>
      <material name="qbmove/cube"/>
      <geometry>
        <mesh filename="package://alterego_robot/alterego_description/meshes/common/visual/qb_move_advanced_for_mate.dae" scale="0.001 0.001 0.001"/>
      </geometry>
      <origin rpy="0 0 0" xyz="0 0 0"/>
    </visual>
    <inertial>
      <origin rpy="0 0 0" xyz="-9.5664949e-5 -1.6749134e-5  1.3880927e-3"/>
      <mass value="4.5418805e-1"/>
      <inertia ixx="1.7978900e-4" ixy="0" ixz="0" iyy="1.7806823e-4" iyz="0" izz="1.6882624e-4"/>
    </inertial>
    <collision>
      <origin rpy="0.0 0.0 0.0" xyz="0.0 0.0 0.0"/>
      <geometry>
        <box size="0.07 0.07 0.07"/>
      </geometry>
    </collision>
  </link>
  <!-- GAZEBO REFERENCE -->
  <gazebo reference="right_shoulder_cube">
    <material>Gazebo/Grey</material>
    <selfCollide>false</selfCollide>
  </gazebo>
  <!-- JOINT -->
  <joint name="right_shoulder_cube_to_right_arm_flange" type="revolute">
    <axis xyz="0 0 1"/>
    <limit effort="1000.0" lower="-3.14" upper="3.14" velocity="0.5"/>
    <origin rpy="0 0 3.1415927" xyz="0 0 -0.5e-3"/>
    <dynamics damping="0.065" friction="0.025"/>
    <parent link="right_shoulder_cube"/>
    <child link="right_arm_flange"/>
  </joint>
  <!-- LINK -->
  <link name="right_arm_flange">
    <visual>
      <material name="qbmove/flange"/>
      <geometry>
        <mesh filename="package://alterego_robot/alterego_description/meshes/common/visual/la_flg_asm_c_wb_blu.dae" scale="0.001 0.001 0.001"/>
      </geometry>
      <origin rpy="0 0 0" xyz="0 0 0"/>
    </visual>
    <inertial>
      <origin rpy="0 0 0" xyz="-7.3157519e-3 2.3015782e-2 0"/>
      <mass value="8.6640591e-2"/>
      <inertia ixx="7.8695858e-5" ixy="1.8826444e-5" ixz="0" iyy="1.0265668e-4" iyz="0" izz="1.3810438e-4"/>
    </inertial>
    <collision>
      <origin rpy="0 0 0" xyz="0 0 0"/>
      <geometry>
        <mesh filename="package://alterego_robot/alterego_description/meshes/common/collision/la_flg_asm_c_wb_blu.stl" scale="0.001 0.001 0.001"/>
      </geometry>
    </collision>
  </link>
  <!-- GAZEBO REFERENCE -->
  <gazebo reference="right_arm_flange">
    <material>Gazebo/SkyBlue</material>
    <selfCollide>false</selfCollide>
  </gazebo>
  <gazebo>
    <plugin filename="libqbmove_plugin.so" name="compliant_act_right_shoulder_cube_to_right_arm_flange">
      <joint>right_shoulder_cube_to_right_arm_flange</joint>
      <operation_mode>5</operation_mode>
      <pub_eltau>false</pub_eltau>
      <pub_state>true</pub_state>
      <sub_ext_tau>false</sub_ext_tau>
      <namespace>AlterEgoBase5/right</namespace>
      <t_sample>0.01</t_sample>
      <spring_a1>11 </spring_a1>
      <spring_k1>0.02</spring_k1>
      <spring_a2>11</spring_a2>
      <spring_k2>0.02</spring_k2>
      <mot_1_tauMax>12.0</mot_1_tauMax>
      <mot_2_tauMax>12.0</mot_2_tauMax>
      <ctrl_1_P>125.0</ctrl_1_P>
      <ctrl_1_I>0.0</ctrl_1_I>
      <ctrl_1_D>4.5</ctrl_1_D>
    </plugin>
  </gazebo>
  <!-- JOINT -->
  <joint name="right_arm_flange_to_right_arm_cube" type="fixed">
    <origin rpy="0 1.5707963 3.1415927" xyz="-90e-3 0 -0.5e-3"/>
    <parent link="right_arm_flange"/>
    <child link="right_arm_cube"/>
  </joint>
  <!-- LINK -->
  <link name="right_arm_cube">
    <visual>
      <material name="qbmove/cube"/>
      <geometry>
        <mesh filename="package://alterego_robot/alterego_description/meshes/common/visual/qb_move_advanced_for_mate.dae" scale="0.001 0.001 0.001"/>
      </geometry>
      <origin rpy="0 0 0" xyz="0 0 0"/>
    </visual>
    <inertial>
      <origin rpy="0 0 0" xyz="-9.5664949e-5 -1.6749134e-5  1.3880927e-3"/>
      <mass value="4.5418805e-1"/>
      <inertia ixx="1.7978900e-4" ixy="0" ixz="0" iyy="1.7806823e-4" iyz="0" izz="1.6882624e-4"/>
    </inertial>
    <collision>
      <origin rpy="0.0 0.0 0.0" xyz="0.0 0.0 0.0"/>
      <geometry>
        <box size="0.07 0.07 0.07"/>
      </geometry>
    </collision>
  </link>
  <!-- GAZEBO REFERENCE -->
  <gazebo reference="right_arm_cube">
    <material>Gazebo/Grey</material>
    <selfCollide>false</selfCollide>
  </gazebo>
  <!-- JOINT -->
  <joint name="right_arm_cube_to_right_elbow_flange" type="revolute">
    <axis xyz="0 0 1"/>
    <limit effort="1000.0" lower="-3.14" upper="3.14" velocity="0.5"/>
    <origin rpy="0 0 1.5707963" xyz="0 0 40.5e-3"/>
    <dynamics damping="0.065" friction="0.025"/>
    <parent link="right_arm_cube"/>
    <child link="right_elbow_flange"/>
  </joint>
  <!-- LINK -->
  <link name="right_elbow_flange">
    <visual>
      <material name="qbmove/flange"/>
      <geometry>
        <mesh filename="package://alterego_robot/alterego_description/meshes/common/visual/la_flg_asm_flat_blu.dae" scale="0.001 0.001 0.001"/>
      </geometry>
      <origin rpy="0 0 0" xyz="0 0 0"/>
    </visual>
    <inertial>
      <origin rpy="0 0 0" xyz="-8.0511890e-5 0 6.1371397e-4"/>
      <mass value="4.1898263e-02"/>
      <inertia ixx="1.5773084e-5" ixy="0" ixz="0" iyy="2.1026644e-5" iyz="0" izz="3.6312308e-5"/>
    </inertial>
    <collision>
      <origin rpy="0 0 0" xyz="0 0 0"/>
      <geometry>
        <mesh filename="package://alterego_robot/alterego_description/meshes/common/collision/la_flg_asm_flat_blu.stl" scale="0.001 0.001 0.001"/>
      </geometry>
    </collision>
  </link>
  <!-- GAZEBO REFERENCE -->
  <gazebo reference="right_elbow_flange">
    <material>Gazebo/SkyBlue</material>
    <selfCollide>false</selfCollide>
  </gazebo>
  <gazebo>
    <plugin filename="libqbmove_plugin.so" name="compliant_act_right_arm_cube_to_right_elbow_flange">
      <joint>right_arm_cube_to_right_elbow_flange</joint>
      <operation_mode>5</operation_mode>
      <pub_eltau>false</pub_eltau>
      <pub_state>true</pub_state>
      <sub_ext_tau>false</sub_ext_tau>
      <namespace>AlterEgoBase5/right</namespace>
      <t_sample>0.01</t_sample>
      <spring_a1>11 </spring_a1>
      <spring_k1>0.02</spring_k1>
      <spring_a2>11</spring_a2>
      <spring_k2>0.02</spring_k2>
      <mot_1_tauMax>12.0</mot_1_tauMax>
      <mot_2_tauMax>12.0</mot_2_tauMax>
      <ctrl_1_P>125.0</ctrl_1_P>
      <ctrl_1_I>0.0</ctrl_1_I>
      <ctrl_1_D>4.5</ctrl_1_D>
    </plugin>
  </gazebo>
  <!-- JOINT -->
  <joint name="right_elbow_flange_to_right_elbow_cube" type="fixed">
    <origin rpy="1.5707963 0 -1.5707963" xyz="0 0 37e-3"/>
    <parent link="right_elbow_flange"/>
    <child link="right_elbow_cube"/>
  </joint>
  <!-- LINK -->
  <link name="right_elbow_cube">
    <visual>
      <material name="qbmove/cube"/>
      <geometry>
        <mesh filename="package://alterego_robot/alterego_description/meshes/common/visual/qb_move_advanced_for_mate.dae" scale="0.001 0.001 0.001"/>
      </geometry>
      <origin rpy="0 0 0" xyz="0 0 0"/>
    </visual>
    <inertial>
      <origin rpy="0 0 0" xyz="-9.5664949e-5 -1.6749134e-5  1.3880927e-3"/>
      <mass value="4.5418805e-1"/>
      <inertia ixx="1.7978900e-4" ixy="0" ixz="0" iyy="1.7806823e-4" iyz="0" izz="1.6882624e-4"/>
    </inertial>
    <collision>
      <origin rpy="0.0 0.0 0.0" xyz="0.0 0.0 0.0"/>
      <geometry>
        <box size="0.07 0.07 0.07"/>
      </geometry>
    </collision>
  </link>
  <!-- GAZEBO REFERENCE -->
  <gazebo reference="right_elbow_cube">
    <material>Gazebo/Grey</material>
    <selfCollide>false</selfCollide>
  </gazebo>
  <!-- JOINT -->
  <joint name="right_elbow_cube_to_right_forearm_flange" type="revolute">
    <axis xyz="0 0 1"/>
    <limit effort="1000.0" lower="-3.14" upper="3.14" velocity="0.5"/>
    <origin rpy="0 0 -1.5707963" xyz="0 0 -0.5e-3"/>
    <dynamics damping="0.065" friction="0.025"/>
    <parent link="right_elbow_cube"/>
    <child link="right_forearm_flange"/>
  </joint>
  <!-- LINK -->
  <link name="right_forearm_flange">
    <visual>
      <material name="qbmove/flange"/>
      <geometry>
        <mesh filename="package://alterego_robot/alterego_description/meshes/common/visual/la_flg_asm_c_wb_blu.dae" scale="0.001 0.001 0.001"/>
      </geometry>
      <origin rpy="0 0 0" xyz="0 0 0"/>
    </visual>
    <inertial>
      <origin rpy="0 0 0" xyz="-7.3157519e-3 2.3015782e-2 0"/>
      <mass value="8.6640591e-2"/>
      <inertia ixx="7.8695858e-5" ixy="1.8826444e-5" ixz="0" iyy="1.0265668e-4" iyz="0" izz="1.3810438e-4"/>
    </inertial>
    <collision>
      <origin rpy="0 0 0" xyz="0 0 0"/>
      <geometry>
        <mesh filename="package://alterego_robot/alterego_description/meshes/common/collision/la_flg_asm_c_wb_blu.stl" scale="0.001 0.001 0.001"/>
      </geometry>
    </collision>
  </link>
  <!-- GAZEBO REFERENCE -->
  <gazebo reference="right_forearm_flange">
    <material>Gazebo/SkyBlue</material>
    <selfCollide>false</selfCollide>
  </gazebo>
  <gazebo>
    <plugin filename="libqbmove_plugin.so" name="compliant_act_right_elbow_cube_to_right_forearm_flange">
      <joint>right_elbow_cube_to_right_forearm_flange</joint>
      <operation_mode>5</operation_mode>
      <pub_eltau>false</pub_eltau>
      <pub_state>true</pub_state>
      <sub_ext_tau>false</sub_ext_tau>
      <namespace>AlterEgoBase5/right</namespace>
      <t_sample>0.01</t_sample>
      <spring_a1>11 </spring_a1>
      <spring_k1>0.02</spring_k1>
      <spring_a2>11</spring_a2>
      <spring_k2>0.02</spring_k2>
      <mot_1_tauMax>12.0</mot_1_tauMax>
      <mot_2_tauMax>12.0</mot_2_tauMax>
      <ctrl_1_P>125.0</ctrl_1_P>
      <ctrl_1_I>0.0</ctrl_1_I>
      <ctrl_1_D>4.5</ctrl_1_D>
    </plugin>
  </gazebo>
  <!-- JOINT -->
  <joint name="right_forearm_flange_to_right_forearm_cube" type="fixed">
    <origin rpy="-1.5707963 0 1.5707963" xyz="-90e-3 0 0"/>
    <parent link="right_forearm_flange"/>
    <child link="right_forearm_cube"/>
  </joint>
  <!-- LINK -->
  <link name="right_forearm_cube">
    <visual>
      <material name="qbmove/cube"/>
      <geometry>
        <mesh filename="package://alterego_robot/alterego_description/meshes/common/visual/qb_move_advanced_for_mate.dae" scale="0.001 0.001 0.001"/>
      </geometry>
      <origin rpy="0 0 0" xyz="0 0 0"/>
    </visual>
    <inertial>
      <origin rpy="0 0 0" xyz="-9.5664949e-5 -1.6749134e-5  1.3880927e-3"/>
      <mass value="4.5418805e-1"/>
      <inertia ixx="1.7978900e-4" ixy="0" ixz="0" iyy="1.7806823e-4" iyz="0" izz="1.6882624e-4"/>
    </inertial>
    <collision>
      <origin rpy="0.0 0.0 0.0" xyz="0.0 0.0 0.0"/>
      <geometry>
        <box size="0.07 0.07 0.07"/>
      </geometry>
    </collision>
  </link>
  <!-- GAZEBO REFERENCE -->
  <gazebo reference="right_forearm_cube">
    <material>Gazebo/Grey</material>
    <selfCollide>false</selfCollide>
  </gazebo>
  <!-- JOINT -->
  <joint name="right_forearm_cube_to_right_wrist_flange" type="revolute">
    <axis xyz="0 0 1"/>
    <limit effort="1000.0" lower="-3.14" upper="3.14" velocity="0.5"/>
    <origin rpy="0 0 -1.5707963" xyz="0 0 40.5e-3"/>
    <dynamics damping="0.065" friction="0.025"/>
    <parent link="right_forearm_cube"/>
    <child link="right_wrist_flange"/>
  </joint>
  <!-- LINK -->
  <link name="right_wrist_flange">
    <visual>
      <material name="qbmove/flange"/>
      <geometry>
        <mesh filename="package://alterego_robot/alterego_description/meshes/common/visual/la_flg_asm_flat_blu.dae" scale="0.001 0.001 0.001"/>
      </geometry>
      <origin rpy="0 0 0" xyz="0 0 0"/>
    </visual>
    <inertial>
      <origin rpy="0 0 0" xyz="-8.0511890e-5 0 6.1371397e-4"/>
      <mass value="4.1898263e-02"/>
      <inertia ixx="1.5773084e-5" ixy="0" ixz="0" iyy="2.1026644e-5" iyz="0" izz="3.6312308e-5"/>
    </inertial>
    <collision>
      <origin rpy="0 0 0" xyz="0 0 0"/>
      <geometry>
        <mesh filename="package://alterego_robot/alterego_description/meshes/common/collision/la_flg_asm_flat_blu.stl" scale="0.001 0.001 0.001"/>
      </geometry>
    </collision>
  </link>
  <!-- GAZEBO REFERENCE -->
  <gazebo reference="right_wrist_flange">
    <material>Gazebo/SkyBlue</material>
    <selfCollide>false</selfCollide>
  </gazebo>
  <gazebo>
    <plugin filename="libqbmove_plugin.so" name="compliant_act_right_forearm_cube_to_right_wrist_flange">
      <joint>right_forearm_cube_to_right_wrist_flange</joint>
      <operation_mode>5</operation_mode>
      <pub_eltau>false</pub_eltau>
      <pub_state>true</pub_state>
      <sub_ext_tau>false</sub_ext_tau>
      <namespace>AlterEgoBase5/right</namespace>
      <t_sample>0.01</t_sample>
      <spring_a1>11 </spring_a1>
      <spring_k1>0.02</spring_k1>
      <spring_a2>11</spring_a2>
      <spring_k2>0.02</spring_k2>
      <mot_1_tauMax>12.0</mot_1_tauMax>
      <mot_2_tauMax>12.0</mot_2_tauMax>
      <ctrl_1_P>125.0</ctrl_1_P>
      <ctrl_1_I>0.0</ctrl_1_I>
      <ctrl_1_D>4.5</ctrl_1_D>
    </plugin>
  </gazebo>
  <!-- JOINT -->
  <joint name="right_wrist_flange_to_right_forearm_hand_flange" type="fixed">
    <origin rpy="0 0 3.1415927" xyz="0 0 4e-3"/>
    <parent link="right_wrist_flange"/>
    <child link="right_forearm_hand_flange"/>
  </joint>
  <!-- LINK -->
  <link name="right_forearm_hand_flange">
    <visual>
      <material name="qbmove/flange"/>
      <geometry>
        <mesh filename="package://alterego_robot/alterego_description/meshes/alterego_v2/visual/mc_wr_abs_qb_adv_301.dae" scale="0.001 0.001 0.001"/>
      </geometry>
      <origin rpy="0 0 0" xyz="0 0 0"/>
    </visual>
    <inertial>
      <origin rpy="0 0 0" xyz="3.0876986e-4 7.1294237e-5 6.7729239e-3"/>
      <mass value="3.4805486e-2"/>
      <inertia ixx="1.5814995e-5" ixy="0" ixz="0" iyy="1.1610747e-5" iyz="0" izz="2.5935426e-5"/>
    </inertial>
    <collision>
      <origin rpy="0 0 0" xyz="0 0 0"/>
      <geometry>
        <mesh filename="package://alterego_robot/alterego_description/meshes/alterego_v2/collision/mc_wr_abs_qb_adv_301.stl" scale="0.001 0.001 0.001"/>
      </geometry>
    </collision>
  </link>
  <!-- GAZEBO REFERENCE -->
  <gazebo reference="right_forearm_hand_flange">
    <material>Gazebo/Grey</material>
    <selfCollide>false</selfCollide>
  </gazebo>
  <!-- JOINT -->
  <joint name="right_forearm_hand_flange_to_right_hand" type="fixed">
    <axis xyz="0 0 1"/>
    <limit effort="1000.0" lower="-1.57" upper="1.57" velocity="0.5"/>
    <origin rpy="-1.5707963 0 0" xyz="3.3e-3 -1.99457e-3 2.80422e-3"/>
    <parent link="right_forearm_hand_flange"/>
    <child link="right_hand"/>
  </joint>
  <!-- LINK -->
  <link name="right_hand">
    <visual>
      <material name="qbmove/cube"/>
      <geometry>
        <mesh filename="package://alterego_robot/alterego_description/meshes/common/visual/softhand_3_dx_urdf.dae" scale="0.001 0.001 0.001"/>
      </geometry>
      <origin rpy="0 0 0" xyz="0 0 0"/>
    </visual>
    <inertial>
      <origin rpy="0 0 0" xyz="4.1739778e-3  -6.3138073e-2 6.1007501e-3"/>
      <mass value="2.9013125e-1"/>
      <inertia ixx="5.6377846e-4" ixy="-2.5891425e-5" ixz="-1.0142109e-5" iyy="1.4989796e-4" iyz="5.9361645e-6" izz="4.4769789e-4"/>
    </inertial>
    <collision>
      <material name="qbmove/cube"/>
      <geometry>
        <mesh filename="package://alterego_robot/alterego_description/meshes/common/collision/softhand_3_dx_urdf.stl" scale="0.001 0.001 0.001"/>
      </geometry>
      <origin rpy="0 0 0" xyz="0 0 0"/>
    </collision>
  </link>
  <joint name="right_hand_to_right_hand__ik" type="fixed">
    <origin rpy="0 0 -1.57" xyz="0 -0.088 0.032"/>
    <parent link="right_hand"/>
    <child link="right_hand_ik"/>
  </joint>
  <link name="right_hand_ik">
		</link>
  <!-- GAZEBO REFERENCE -->
  <gazebo reference="right_hand">
    <material>Gazebo/Grey</material>
    <selfCollide>false</selfCollide>
  </gazebo>
</robot>
